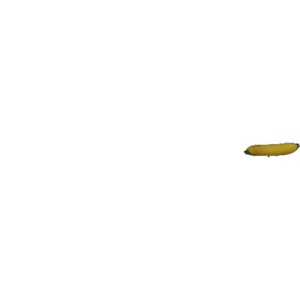banana: (238, 136, 298, 161)
